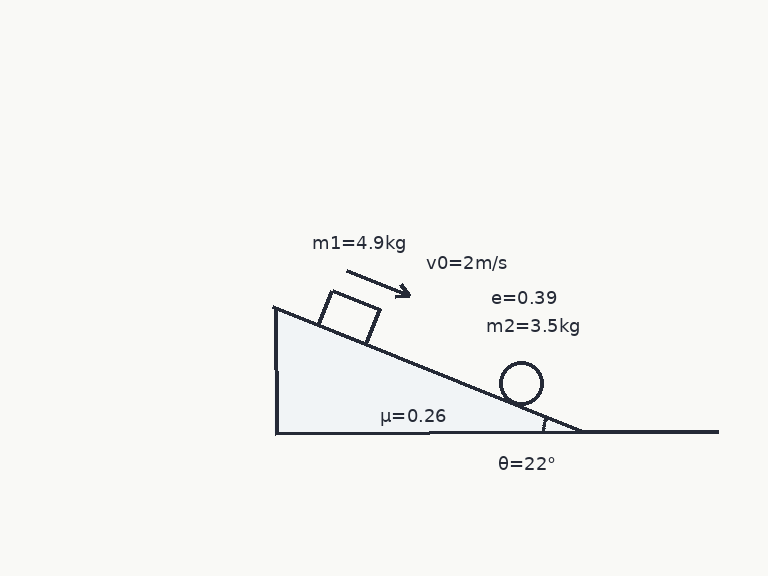ball: (497, 359, 545, 407)
block: (316, 288, 381, 346)
ramp: (272, 305, 585, 434)
